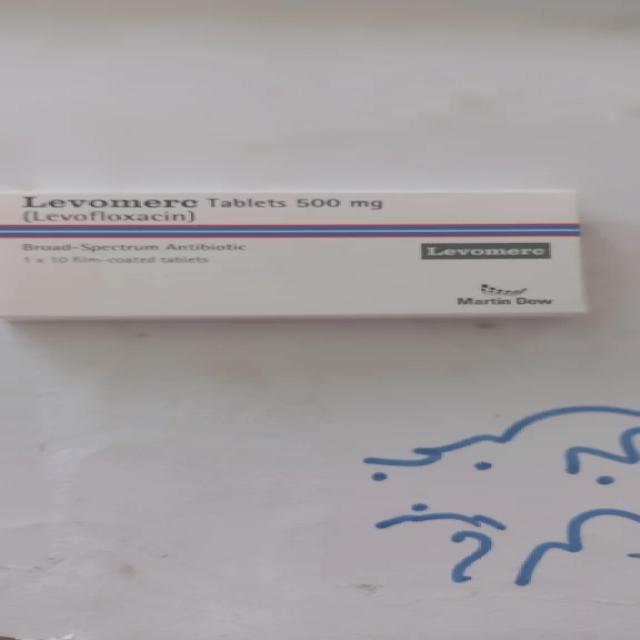drug-name: (24, 194, 195, 208)
